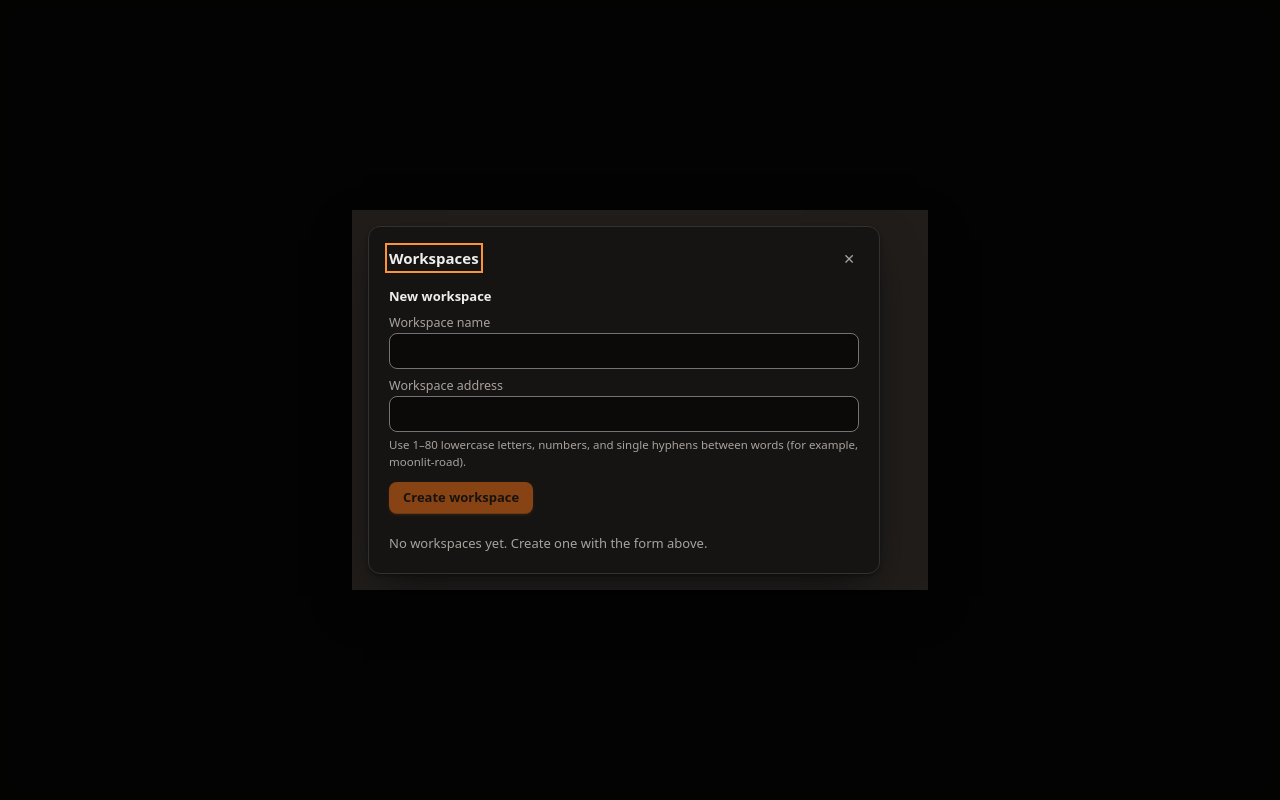
Scenario: workspace manager dialog › keeps submitted identity and prevents close during pending creation
Step 1. Type "Original" into the field with test id "ws-new-name" → (624,351), box [389,333,859,369]
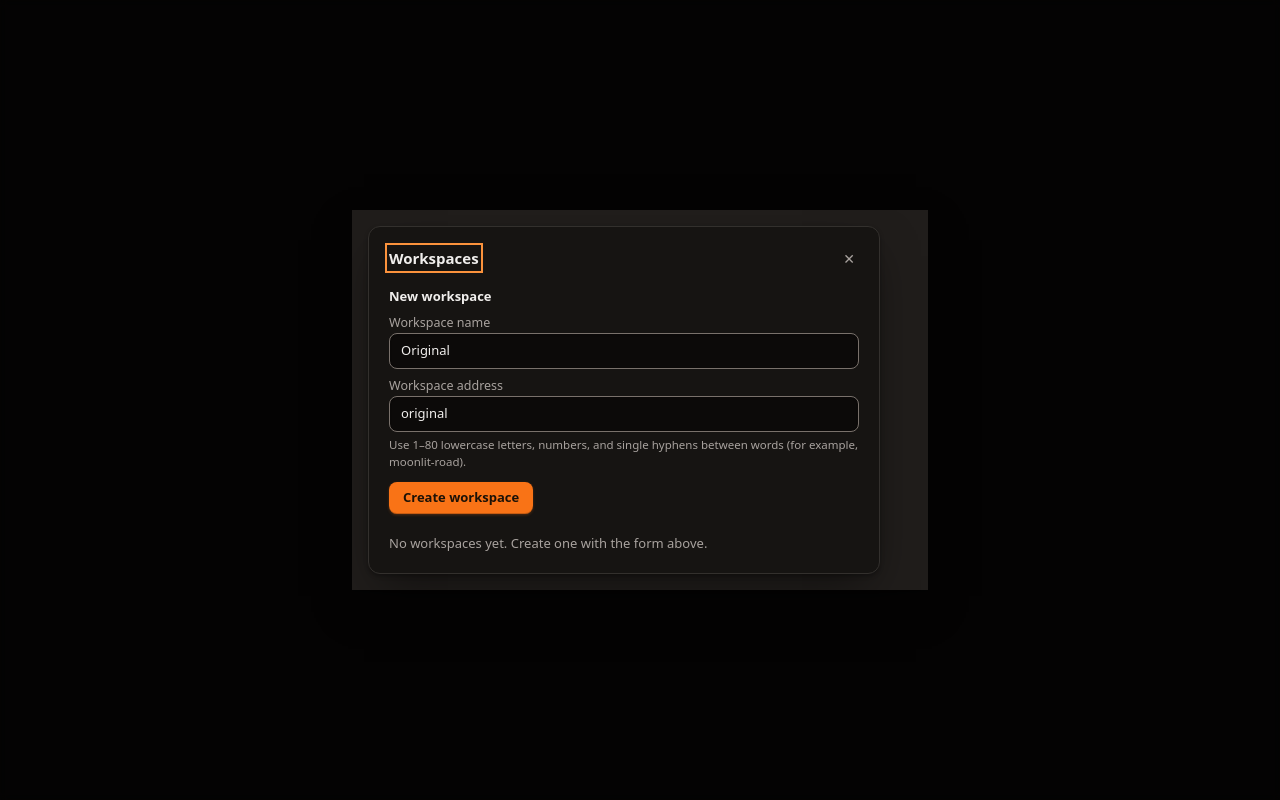
Step 2. Submit the form, box [389,287,859,514]
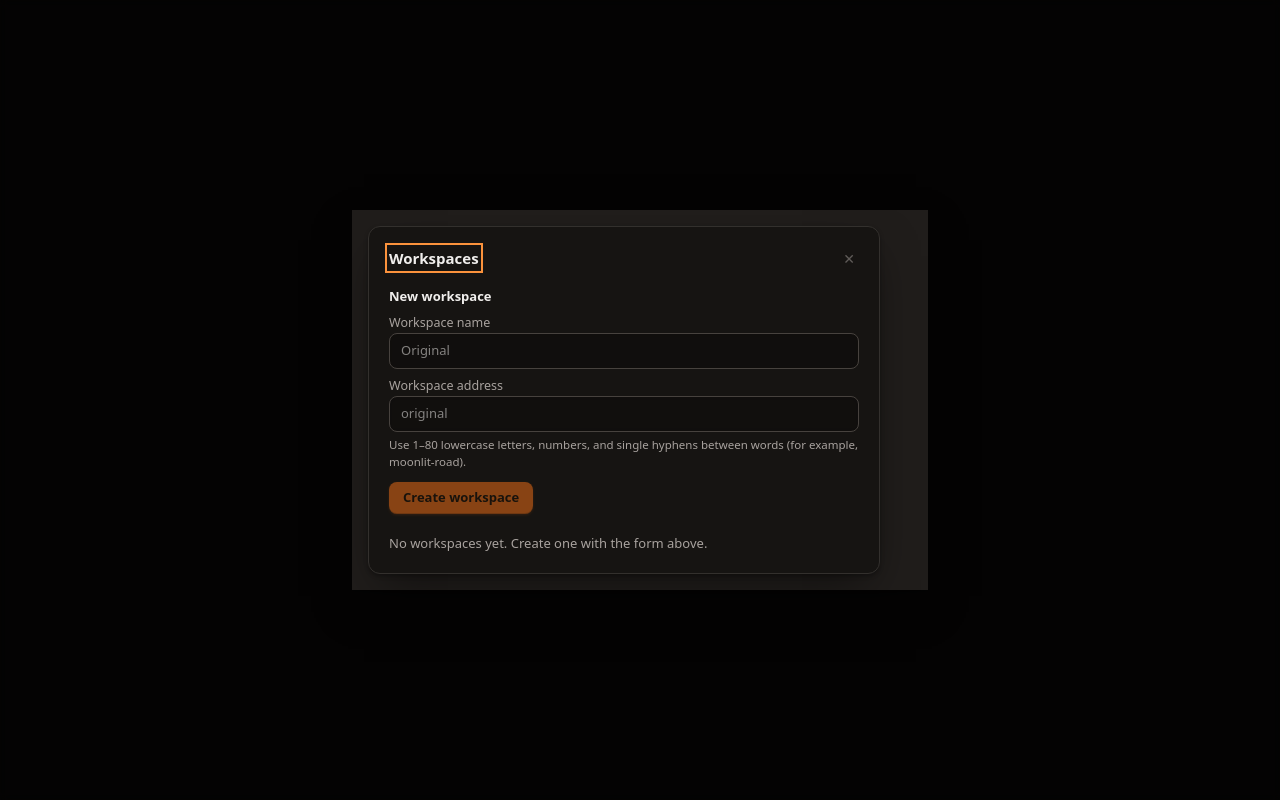
Check: the button with test id "ws-close" is disabled, box [839,247,859,271]
Step 3. Replace the text in the field with test id "ws-new-name" with "Changed while pending" → (624,351), box [389,333,859,369]
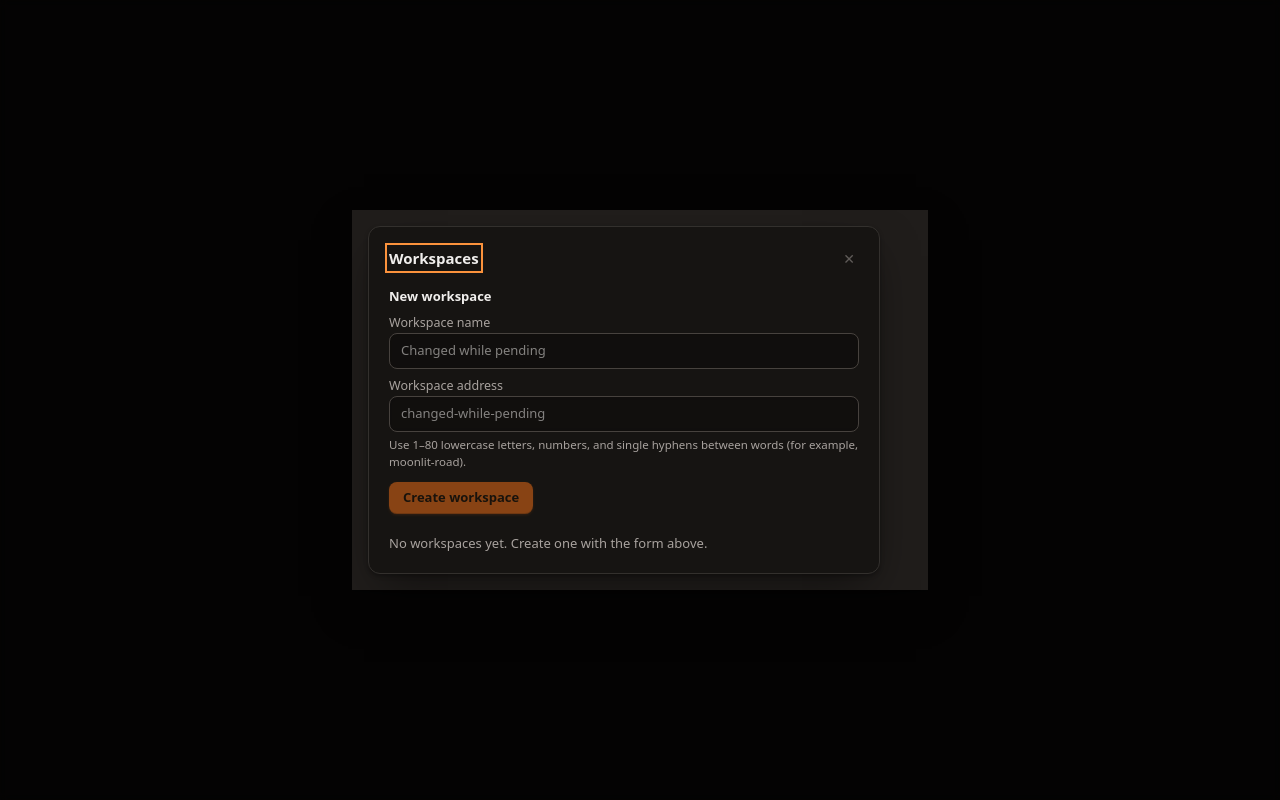
Step 4. Click the button with test id "ws-close" → (849,259), box [839,247,859,271]
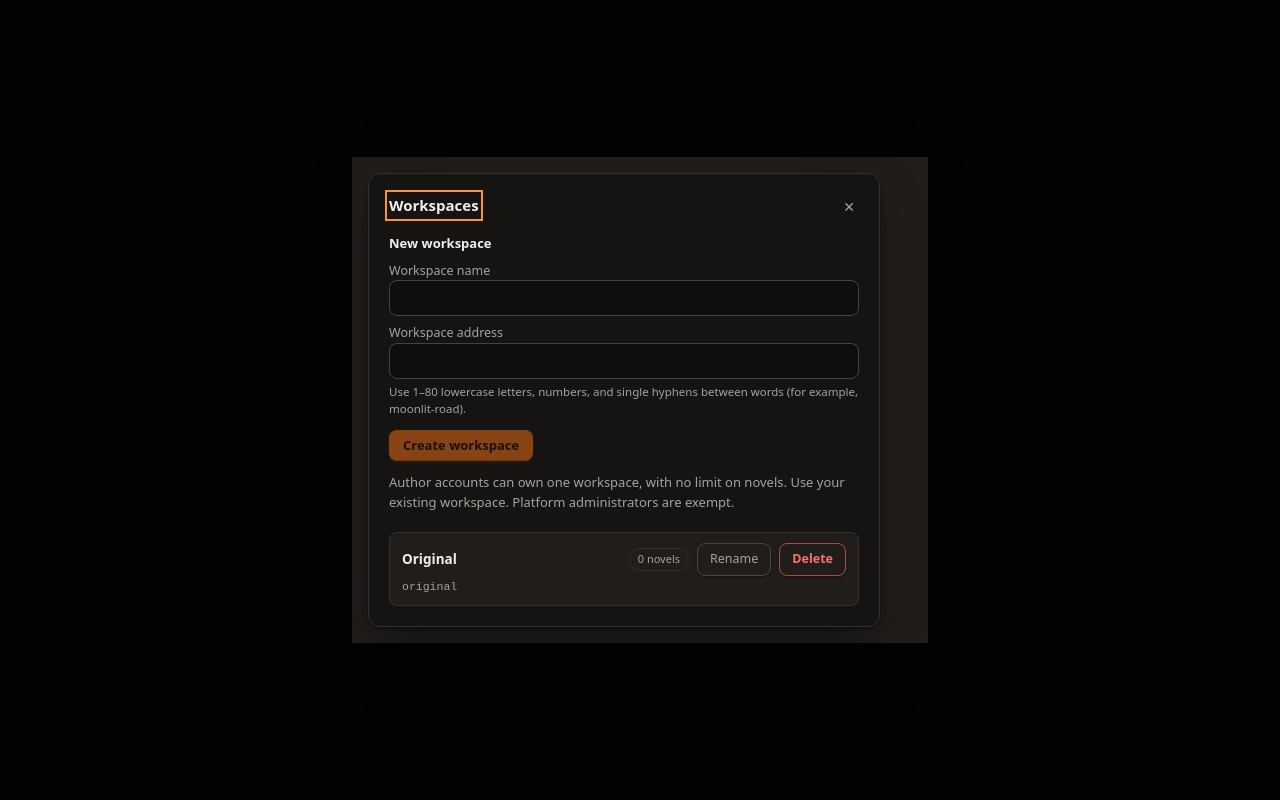
Check: the text "Changed while pending" is not shown
Check: the list item with test id "ws-row-original" shows "Original", box [402,550,457,568]
